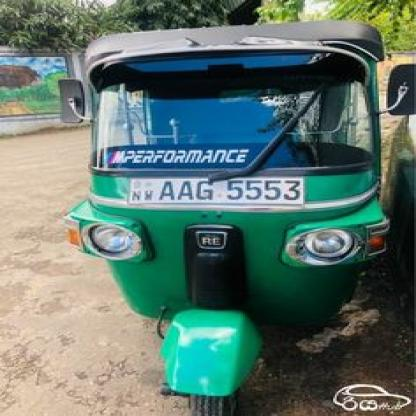number plate: (127, 176, 304, 205)
three wheeler front: (50, 23, 416, 416)
